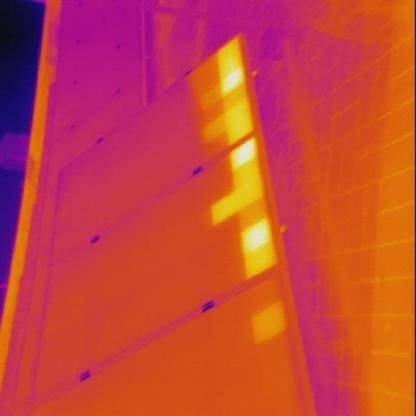anomaly: (210, 44, 267, 144), (209, 138, 263, 226), (240, 218, 284, 282), (245, 304, 297, 345)
